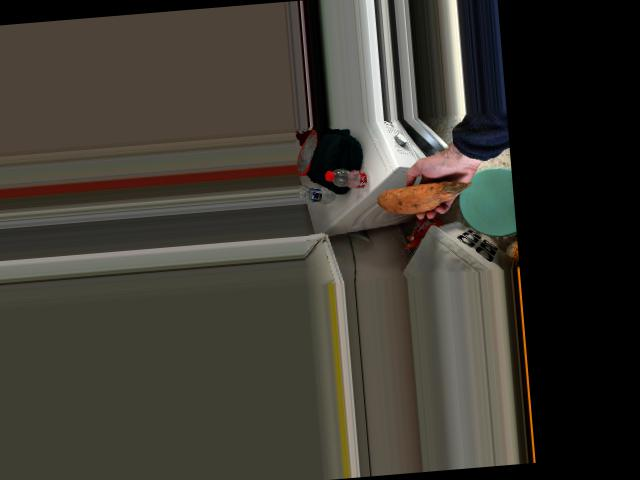sweet_potato: (385, 179, 467, 216)
